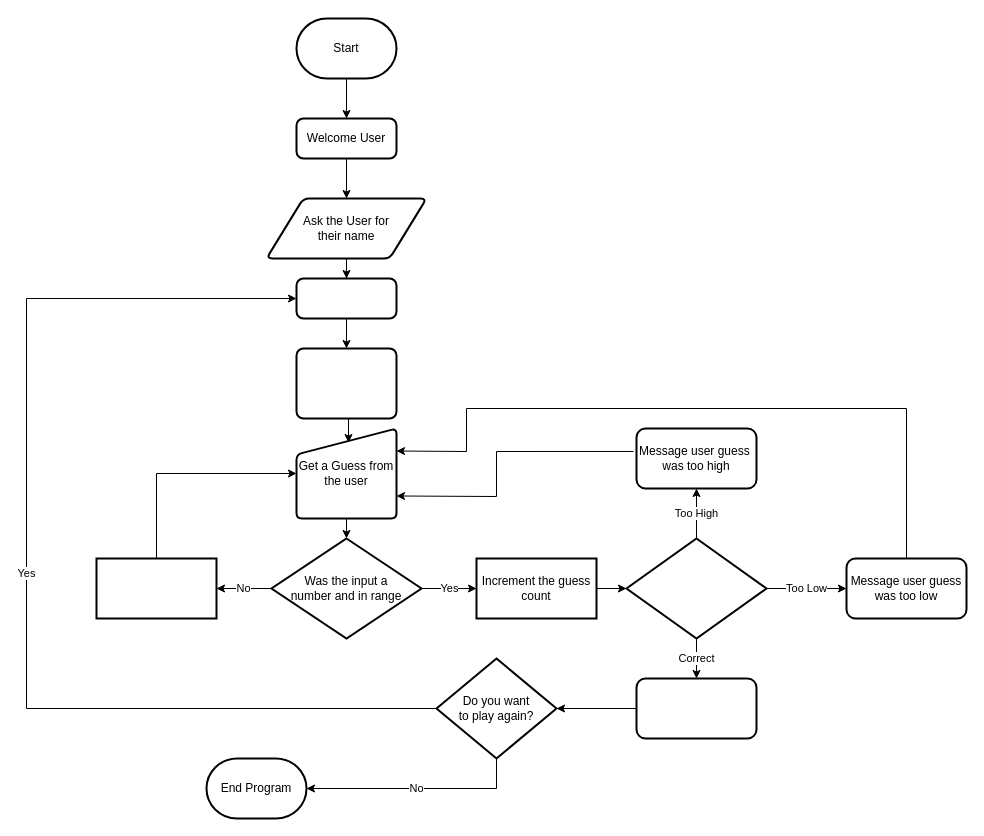
This 984x836 diagram has some shape labels left out. Each missing label, with the centre of its shape:
"Congratulate User and message how many guesses it took!" belongs at point (696, 708).
"Generate a Random Number and set guess count to 0" belongs at point (346, 383).
"Guess too high, low , or just right" belongs at point (696, 588).
"Show an error message to the user" belongs at point (156, 588).
"Start the Game" belongs at point (346, 298).
